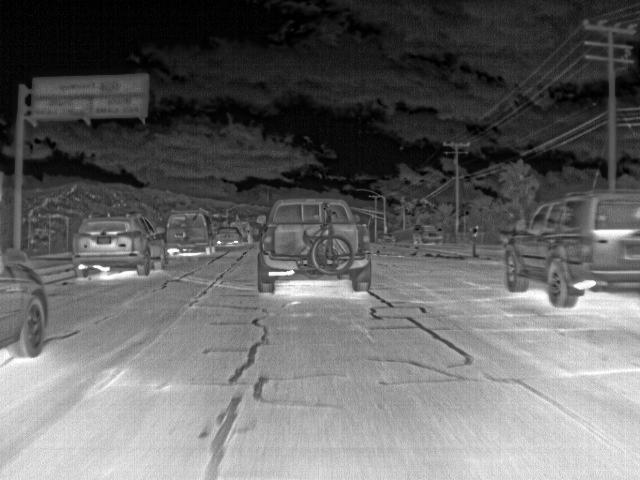car: (504, 191, 640, 310), (255, 196, 373, 295), (74, 212, 168, 280), (1, 255, 50, 362), (166, 207, 219, 254), (414, 222, 445, 244), (215, 226, 247, 246), (378, 232, 397, 246)
